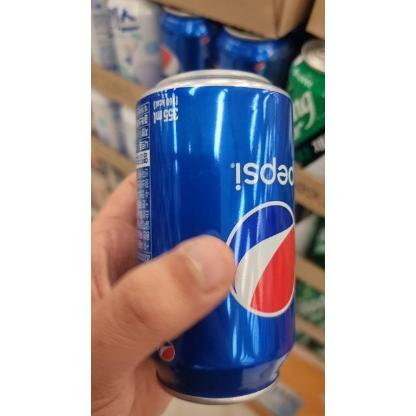Can: (134, 70, 298, 406)
